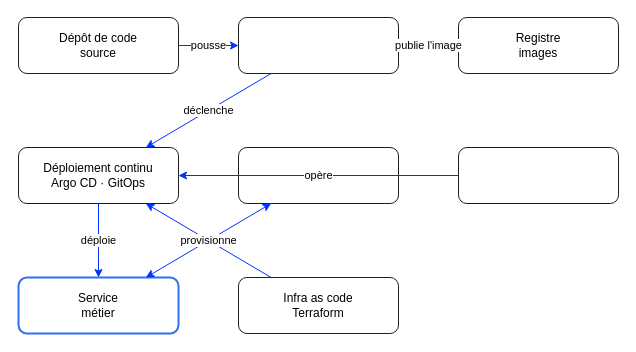
Image size: 636x352. Some labels were removed from this diagram. Each missing label, with the box of its shape:
CI / CD build + tests: (238, 16, 398, 74)
Exploitation SRE: (458, 146, 618, 204)
Supervision Prometheus · alertes: (238, 146, 398, 204)
